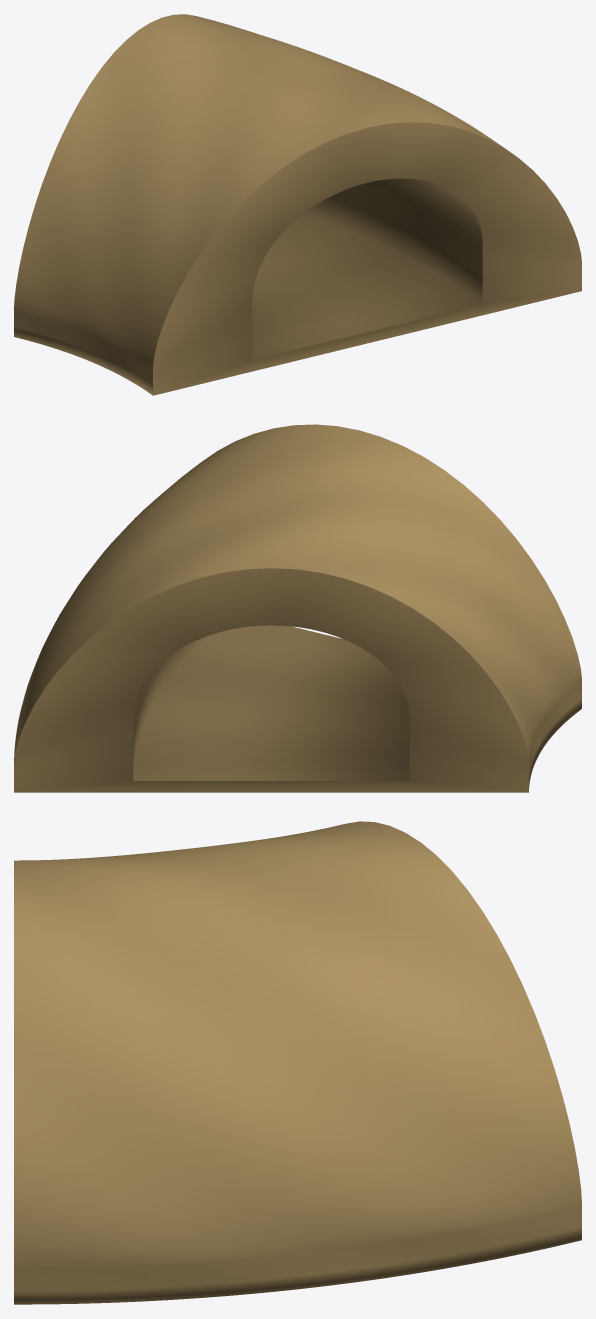
The model's file is curve_left_30_terrain.glb.
3 renders of one model, top to bottom at view 1: azimuth 30°, elevation 25°; view 2: azimuth 150°, elevation 25°; view 3: azimuth 270°, elevation 25°, orthographic. The views are drawn at different scales.
Visible parts, largest first — view 1: TerrainRoof.006; view 2: TerrainRoof.006; view 3: TerrainRoof.006.
Boxes of the visible parts, x1,y1,x2,y2 form: TerrainRoof.006: (14, 14, 581, 395); TerrainRoof.006: (14, 424, 581, 792); TerrainRoof.006: (14, 821, 581, 1304).
Size of the model in its own units: 31.32 by 13.65 by 25.1.
